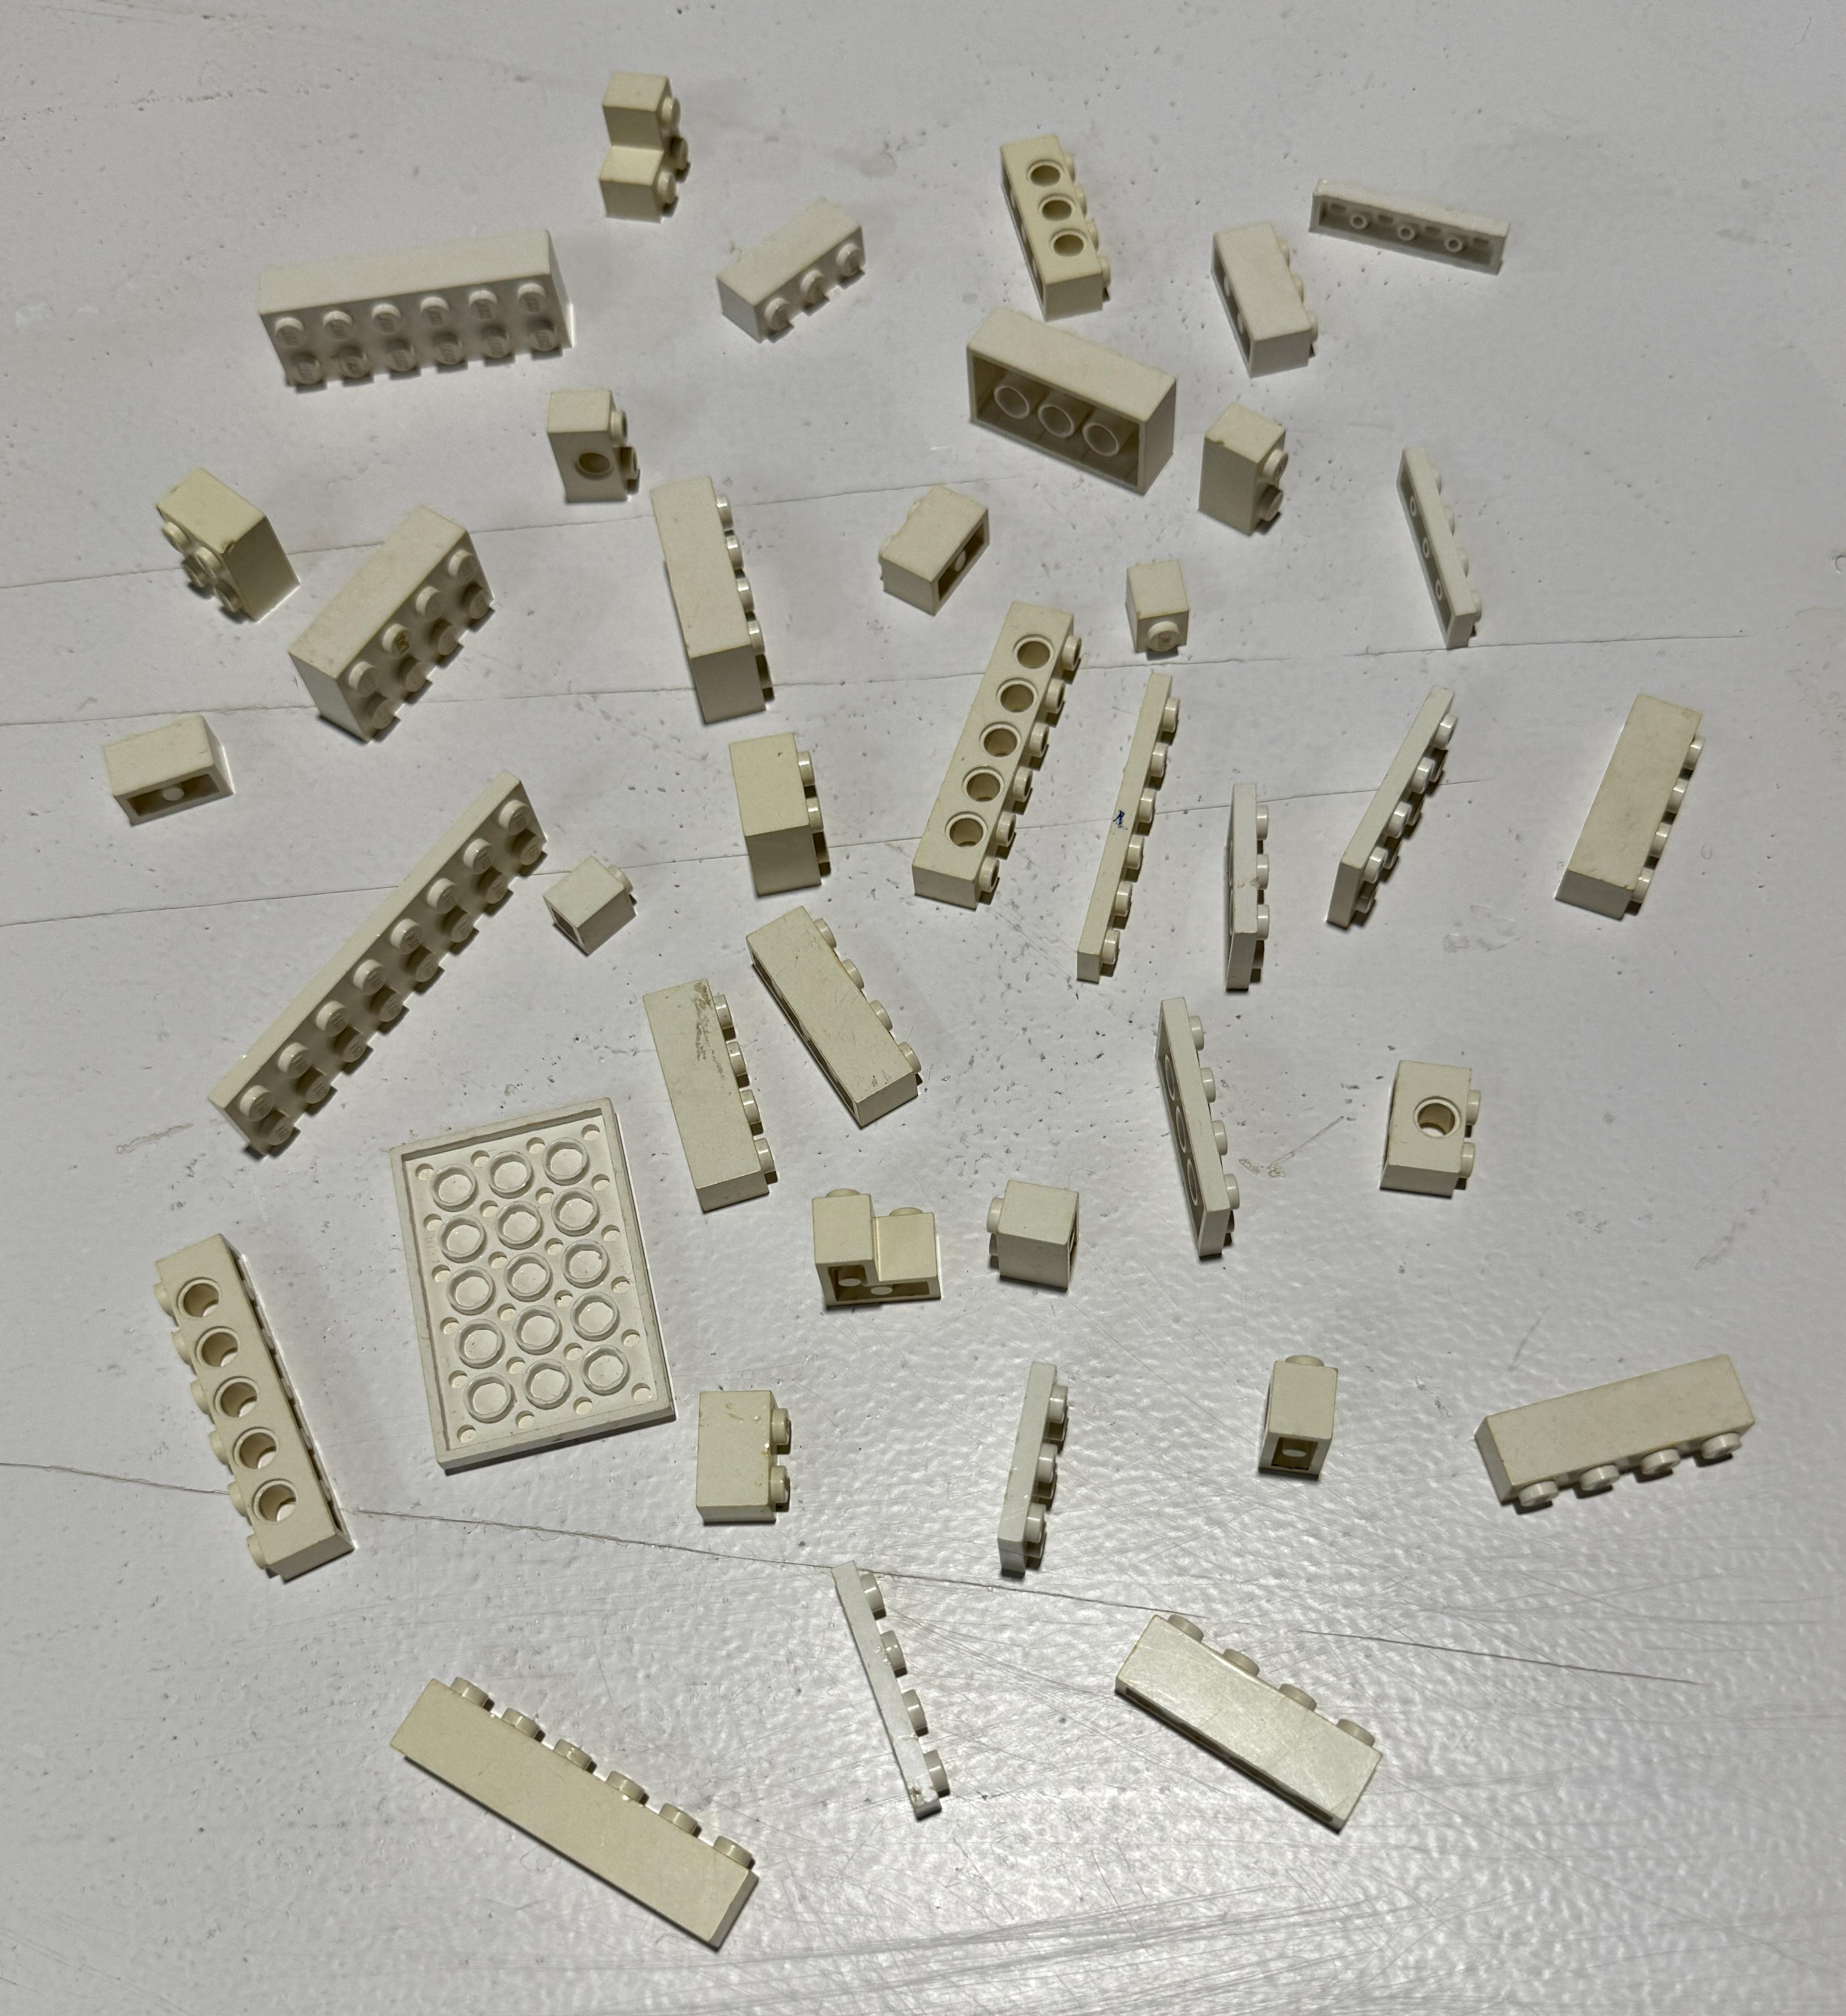brick_1x1: (1217, 1324, 1381, 1530), (971, 1152, 1107, 1301), (537, 834, 655, 975), (1112, 544, 1222, 687)
brick_1x2: (1337, 1038, 1518, 1217), (664, 1366, 833, 1545), (86, 683, 249, 838), (861, 464, 1006, 622), (530, 364, 666, 523), (1184, 385, 1303, 551)
brick_1x3: (696, 181, 894, 355), (1194, 202, 1335, 395)
brick_1x4: (1089, 1586, 1403, 1849), (1447, 1342, 1781, 1533), (736, 866, 955, 1131), (1544, 669, 1728, 940), (613, 957, 792, 1235), (966, 116, 1129, 325)
brick_2x2: (130, 439, 328, 652), (704, 722, 859, 908)
brick_2x4: (272, 502, 513, 771), (955, 297, 1198, 504)
